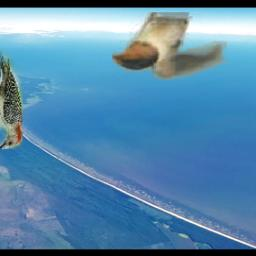Swallow: (112, 12, 227, 80)
Woodpecker: (0, 49, 21, 150)
